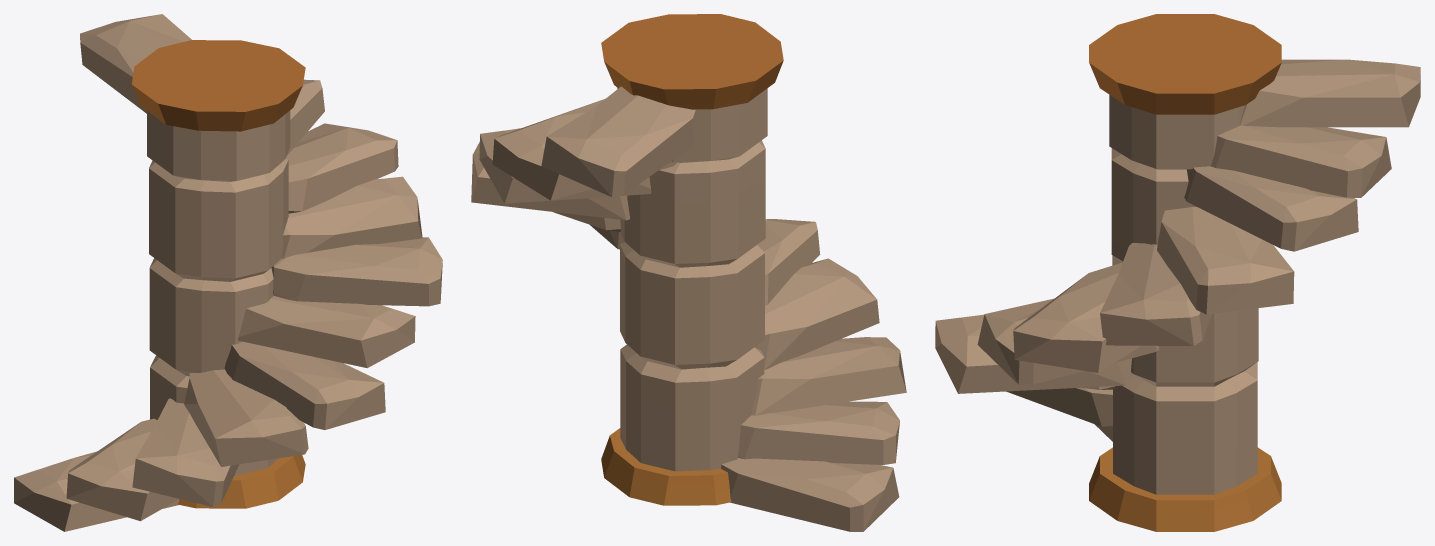
The model's file is Staircase_stone_thin_B.fbx.
3 views of the same model, side by side, from view 1: azimuth 30°, elevation 25°; view 2: azimuth 150°, elevation 25°; view 3: azimuth 270°, elevation 25° (orthographic). The views are drawn at different scales.
Visible parts, largest first — view 1: Staircase_stone_thin_B; view 2: Staircase_stone_thin_B; view 3: Staircase_stone_thin_B.
Part boxes in pixels (bbox=[...]): Staircase_stone_thin_B: bbox=[14, 14, 442, 531]; Staircase_stone_thin_B: bbox=[471, 14, 906, 531]; Staircase_stone_thin_B: bbox=[935, 14, 1420, 531].
Size of the model in its own units: 294 by 300 by 300.
